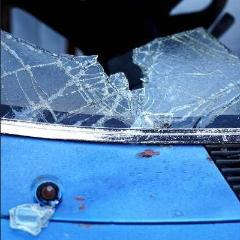glass: (0, 28, 240, 130)
